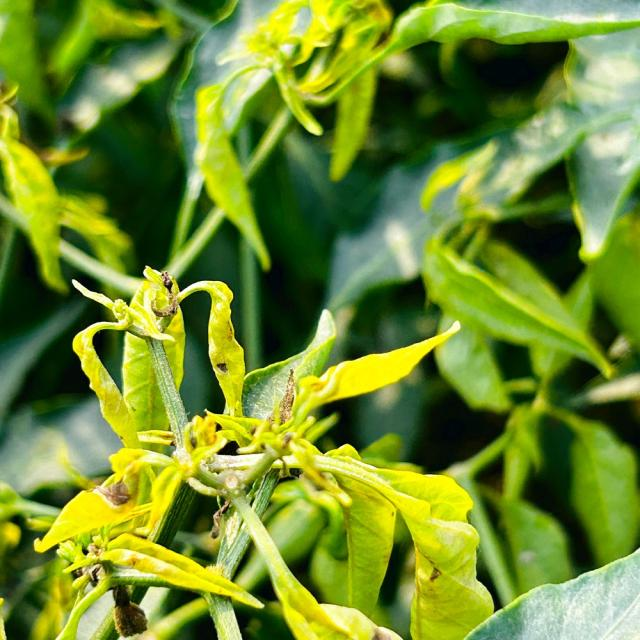Chilli_Leaf_Curl: (2, 1, 637, 638), (32, 264, 495, 638), (189, 0, 639, 270)
